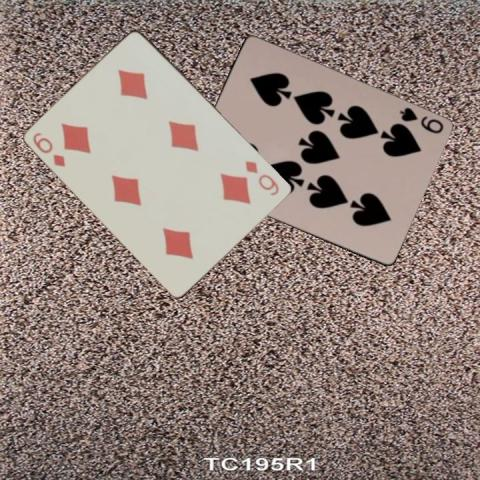6d: (242, 158, 281, 198), (30, 129, 67, 169)
9s: (395, 104, 445, 135)
